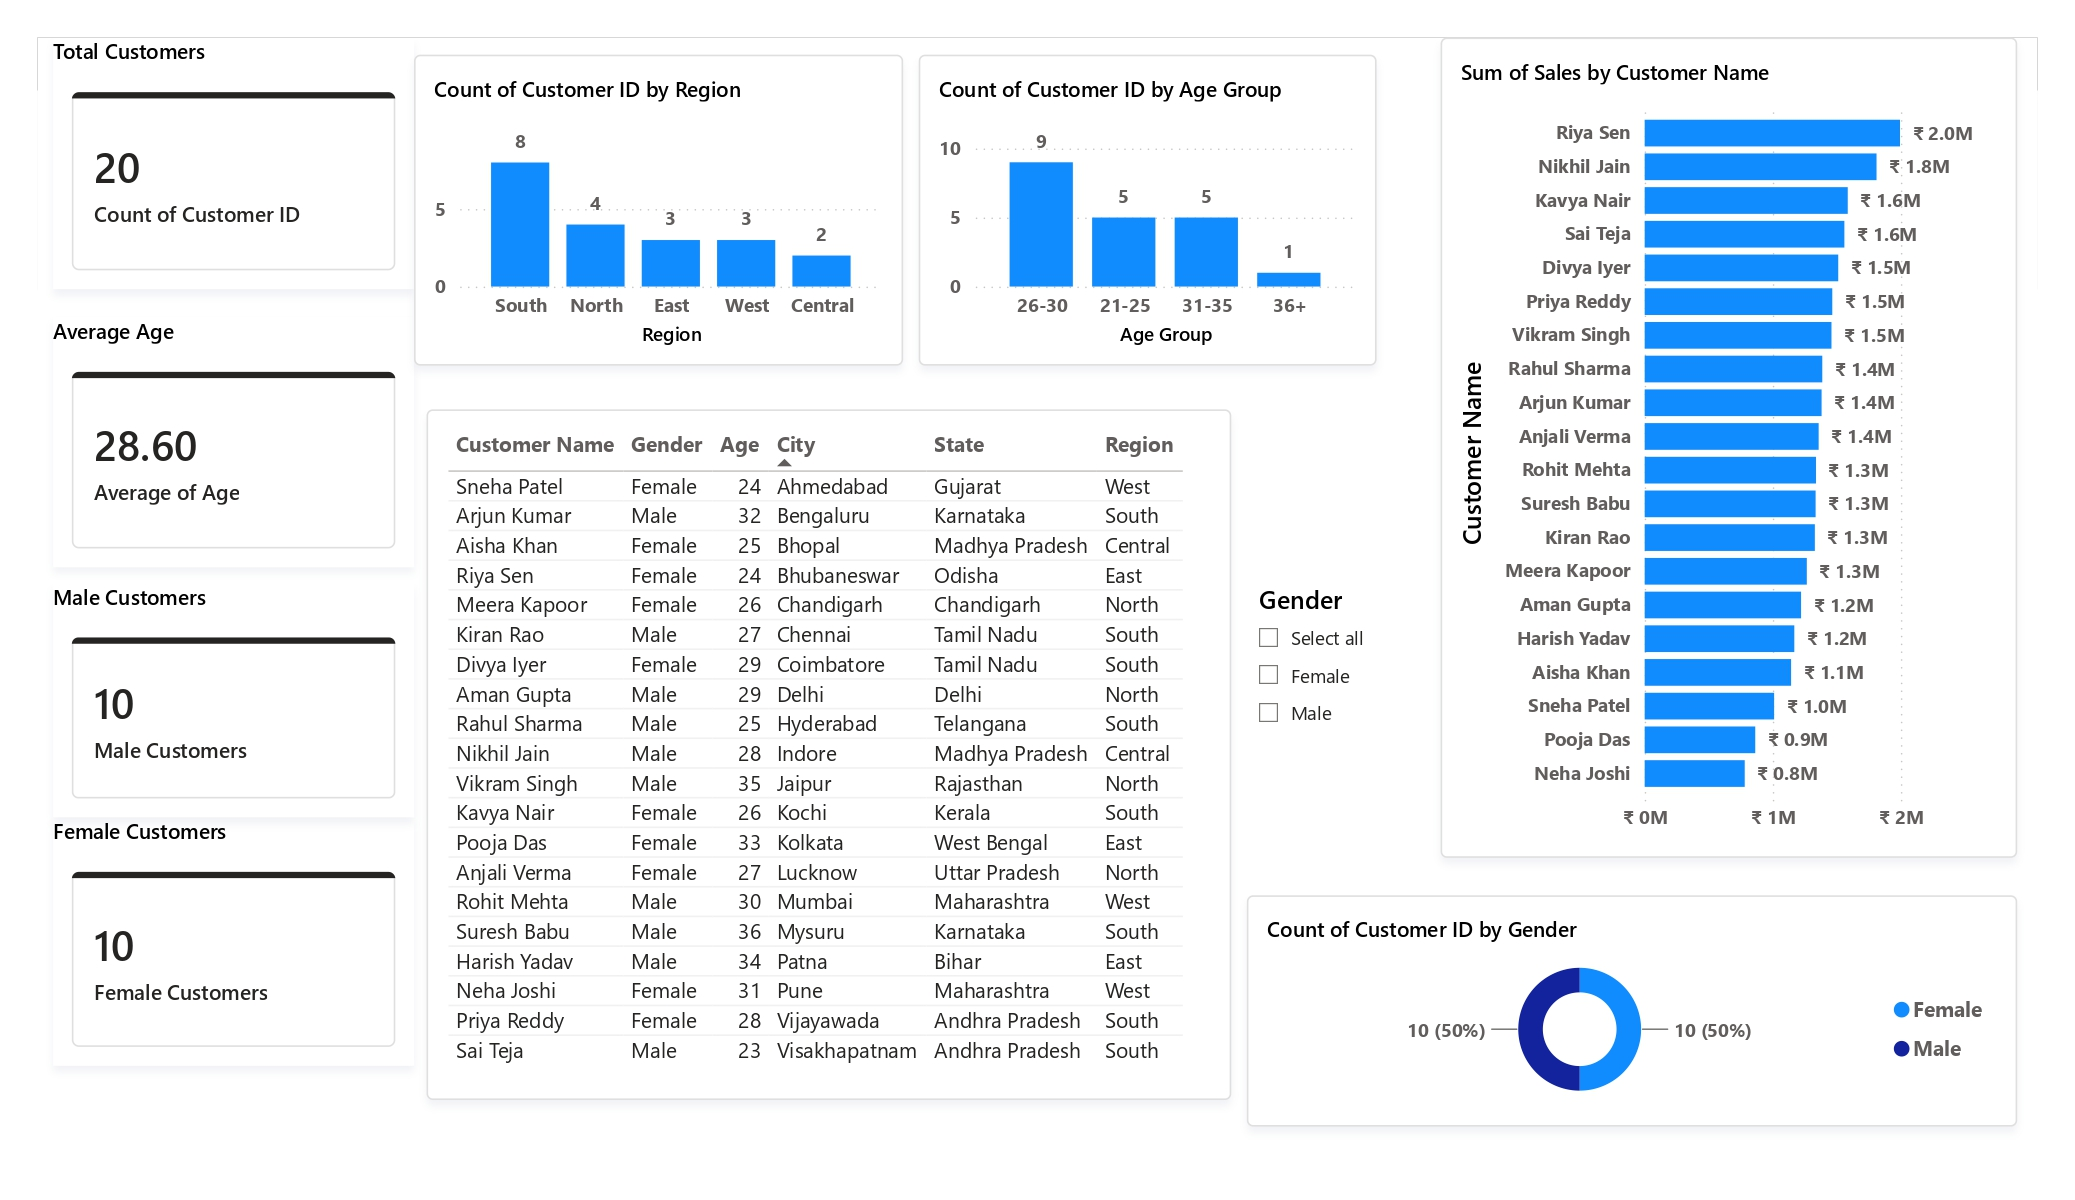

The page's visual inventory and layout, read from the dashboard file:
{"tool":"powerbi","page":{"name":"Customer Analytics","canvas":[1280,720],"ordinal":1},"visuals":[{"type":"cardVisual","title":"Total Customers","fields":{"Data":["Count(Customers.Customer ID)"]},"box":[9.8,0,231.1,161.4],"z":0},{"type":"cardVisual","title":"Average Age","fields":{"Data":["Avg(Customers.Age)"]},"box":[9.8,178.5,231.1,160.2],"z":1000},{"type":"cardVisual","title":"Male Customers","fields":{"Data":["Customers.Male Customers"]},"box":[9.8,348.5,231.1,150.4],"z":2000},{"type":"cardVisual","title":"Female Customers","fields":{"Data":["Customers.Female Customers"]},"box":[9.8,498.9,231.1,159],"z":3000},{"type":"donutChart","fields":{"Category":["Customers.Gender"],"Y":["Count(Orders.Customer ID)"]},"box":[774.1,549.1,492.8,148],"z":4000},{"type":"clusteredColumnChart","fields":{"Category":["Customers.Region"],"Y":["Count(Customers.Customer ID)"]},"box":[240.9,11,313,199.3],"z":5000},{"type":"clusteredColumnChart","fields":{"Category":["Customers.Age Group"],"Y":["Count(Customers.Customer ID)"]},"box":[563.7,11,293.5,199.3],"z":6000},{"type":"barChart","fields":{"Category":["Customers.Customer Name"],"Y":["Sum(Orders.Sales)"]},"box":[897.6,0,369.3,524.6],"z":7000},{"type":"tableEx","fields":{"Values":["Customers.Customer Name","Customers.Gender","Customers.Age","Customers.City","Customers.State","Customers.Region"]},"box":[249.5,238.5,514.8,441.4],"z":8000},{"type":"slicer","fields":{"Values":["Customers.Gender"]},"box":[774.1,348.5,106.4,110.1],"z":9000}]}

Visuals, with their boxes on the page's 1280x720 design canvas (x1, y1, x2, y2). These are canvas units, not pixel positions in the 2075x1200 screenshot, which may show the page scaled, cropped or inside an application window:
"Total Customers" cardVisual: (left=10, top=0, right=241, bottom=161)
"Average Age" cardVisual: (left=10, top=178, right=241, bottom=339)
"Male Customers" cardVisual: (left=10, top=348, right=241, bottom=499)
"Female Customers" cardVisual: (left=10, top=499, right=241, bottom=658)
donutChart - Customers.Gender x Count(Orders.Customer ID): (left=774, top=549, right=1267, bottom=697)
clusteredColumnChart - Customers.Region x Count(Customers.Customer ID): (left=241, top=11, right=554, bottom=210)
clusteredColumnChart - Customers.Age Group x Count(Customers.Customer ID): (left=564, top=11, right=857, bottom=210)
barChart - Customers.Customer Name x Sum(Orders.Sales): (left=898, top=0, right=1267, bottom=525)
tableEx - Customers.Customer Name x Customers.Gender: (left=250, top=238, right=764, bottom=680)
slicer - Customers.Gender: (left=774, top=348, right=880, bottom=459)
